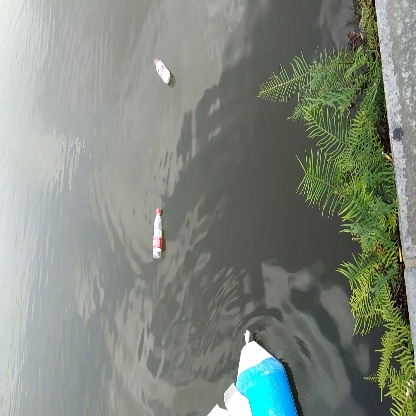bottle: (148, 208, 171, 260), (151, 53, 178, 87)
